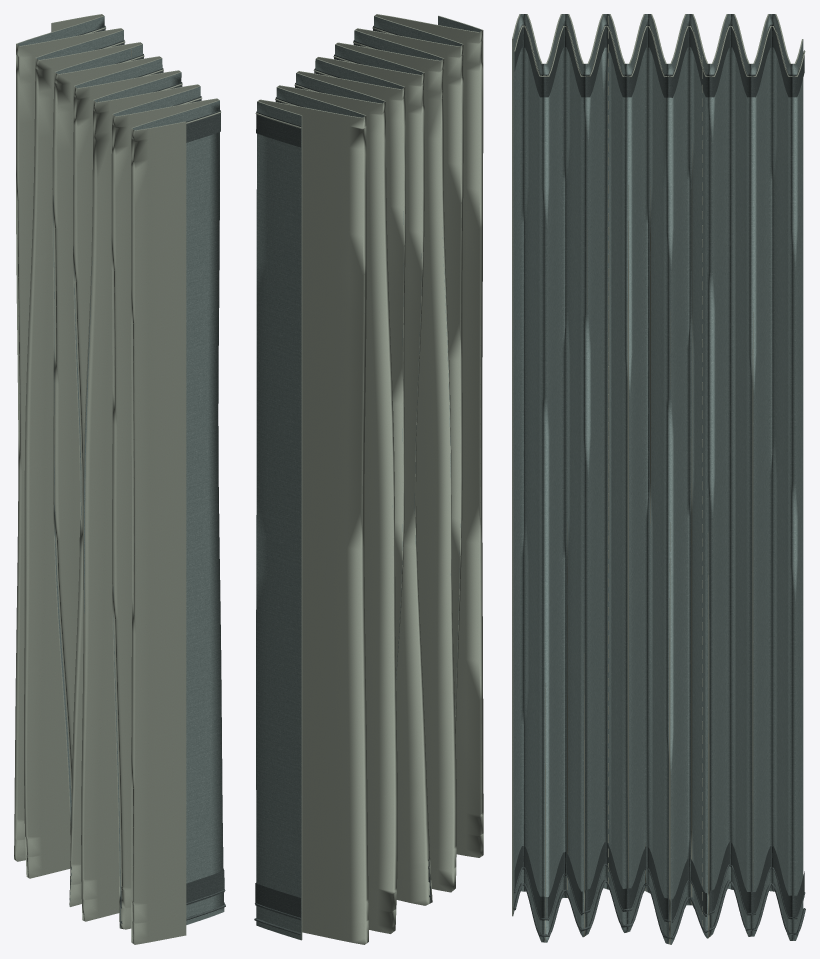
File: cloth_berth_curtain.fbx
3 views of the same model, side by side, from view 1: azimuth 30°, elevation 25°; view 2: azimuth 150°, elevation 25°; view 3: azimuth 270°, elevation 25° (orthographic). The views are drawn at different scales.
Parts seen in each view (by area): view 1: SM_cloth_berth_curtain; view 2: SM_cloth_berth_curtain; view 3: SM_cloth_berth_curtain.
Boxes of the visible parts, x1,y1,x2,y2 form: SM_cloth_berth_curtain: (14, 14, 225, 944); SM_cloth_berth_curtain: (254, 14, 483, 944); SM_cloth_berth_curtain: (512, 14, 805, 944).
Bounding box in the file's own units: 0.1986 × 1.24 × 0.3751.
Materials: 3 (3 with a texture image).
